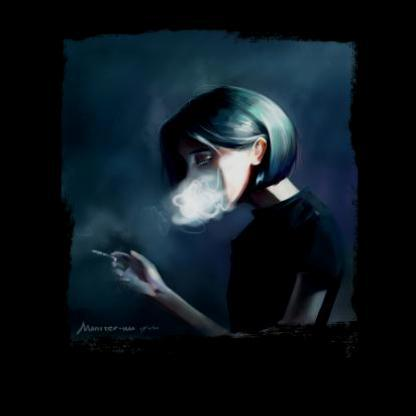cigarette: (88, 246, 119, 262)
person: (164, 86, 344, 330)
smoke: (170, 174, 228, 230)
